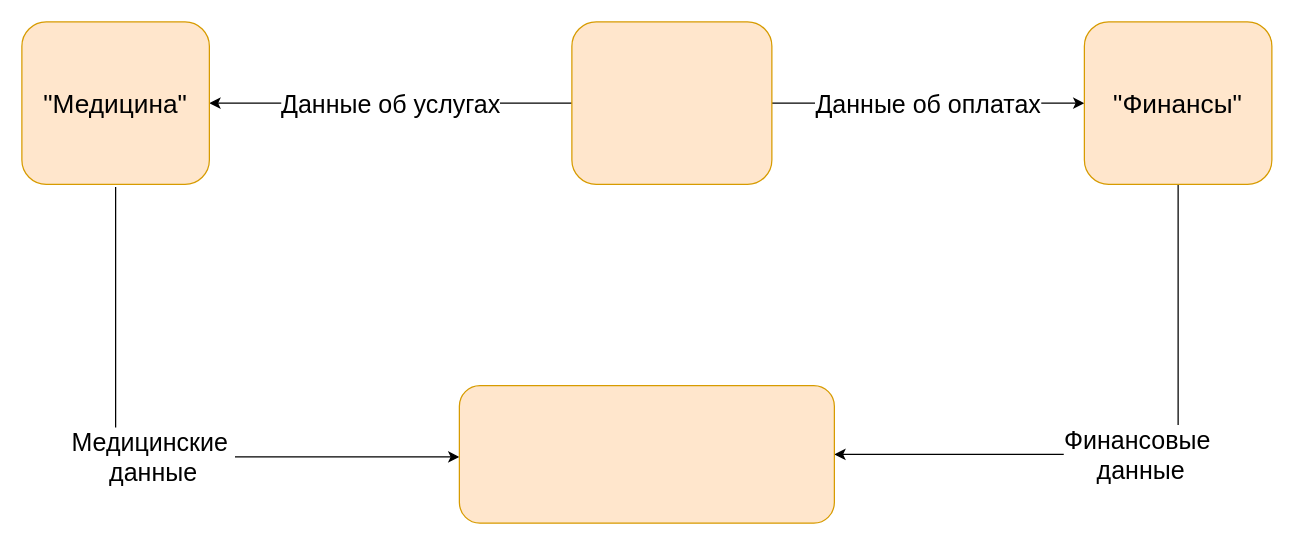
The diagram is 1294 pixels wide and 545 high, and some of its shapes have lost their labels. Here are the shapes that lost their labels. From the top down, the centre of each, then its label:
point 671,102: "Клиенты"
point 646,453: "Аналитика"
